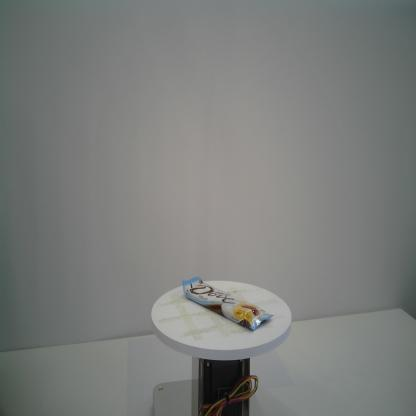Chocolate: (181, 275, 275, 332)
